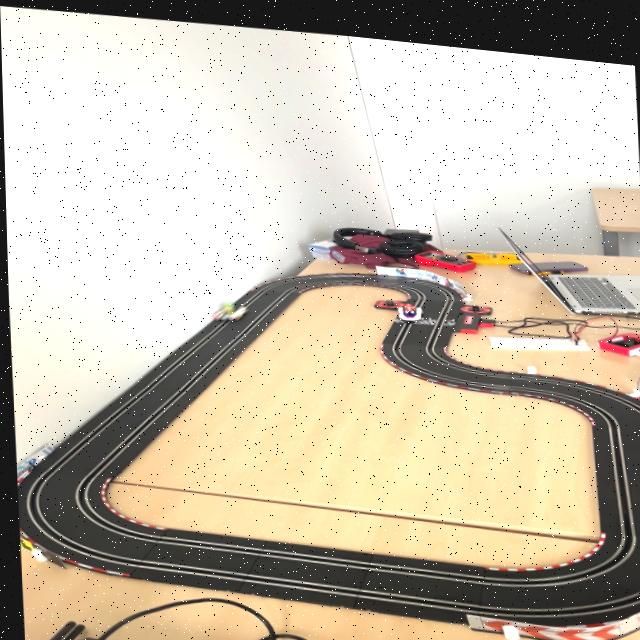mario: (392, 292, 422, 314)
yoshi: (208, 294, 250, 318)
